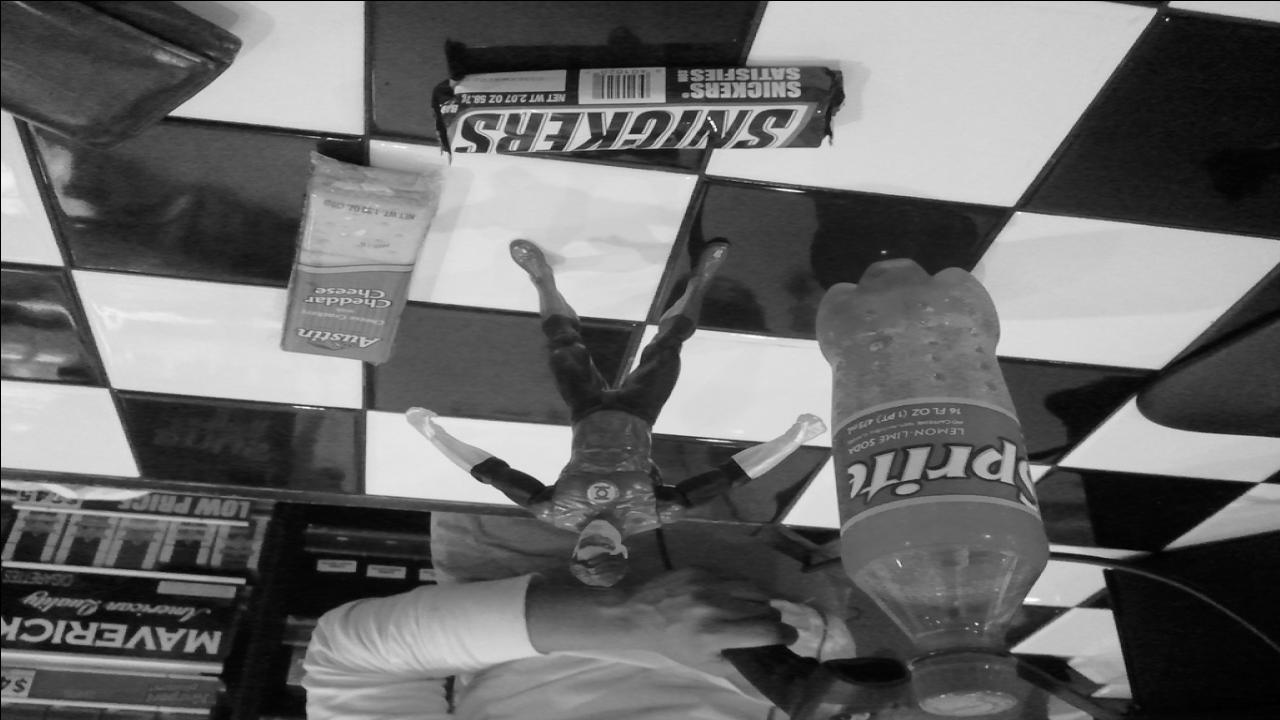bottle_cap: (908, 654, 1014, 715)
